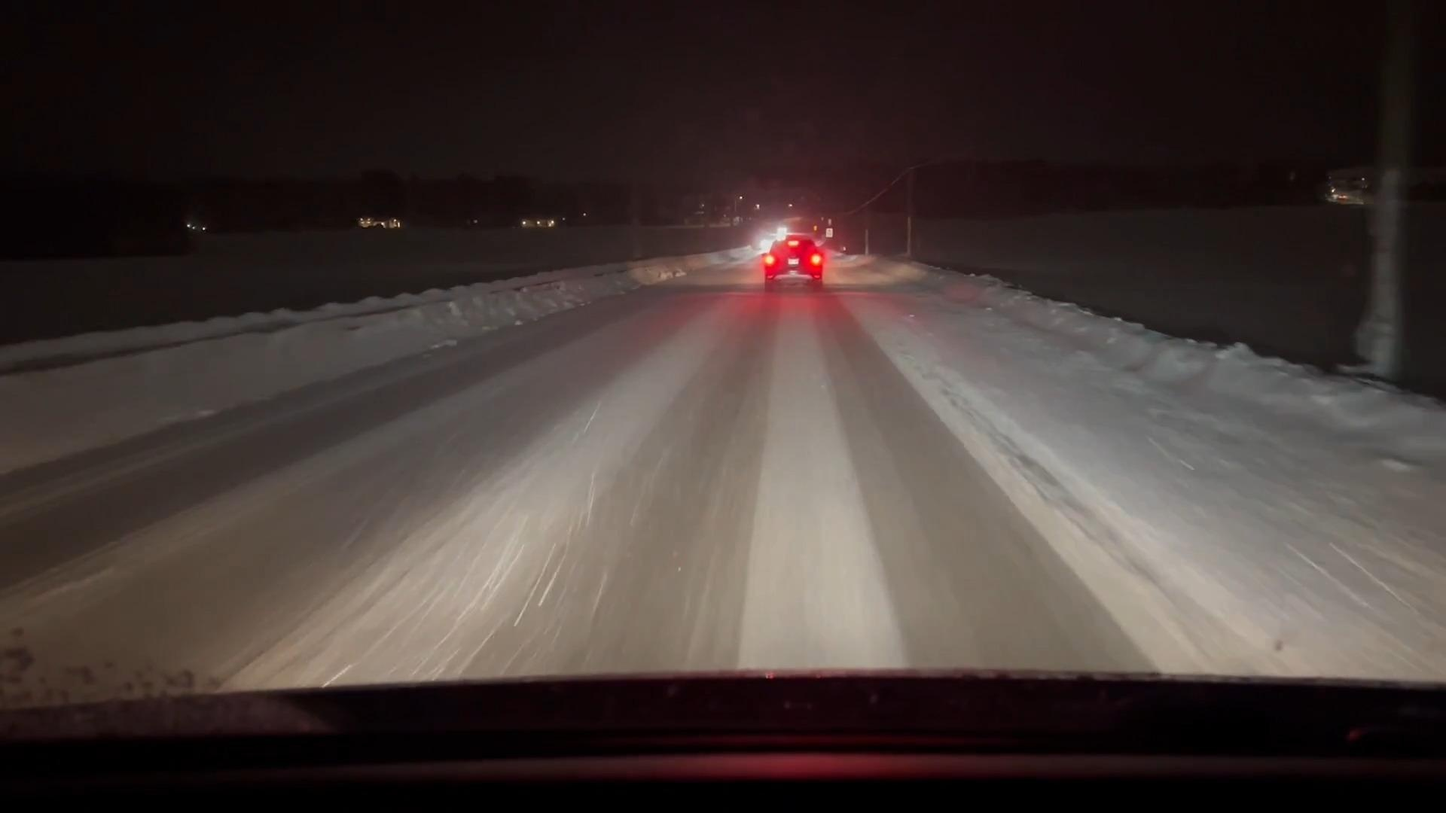Snow: (0, 248, 1445, 698)
